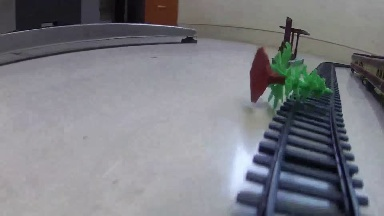tree: (249, 42, 333, 109)
